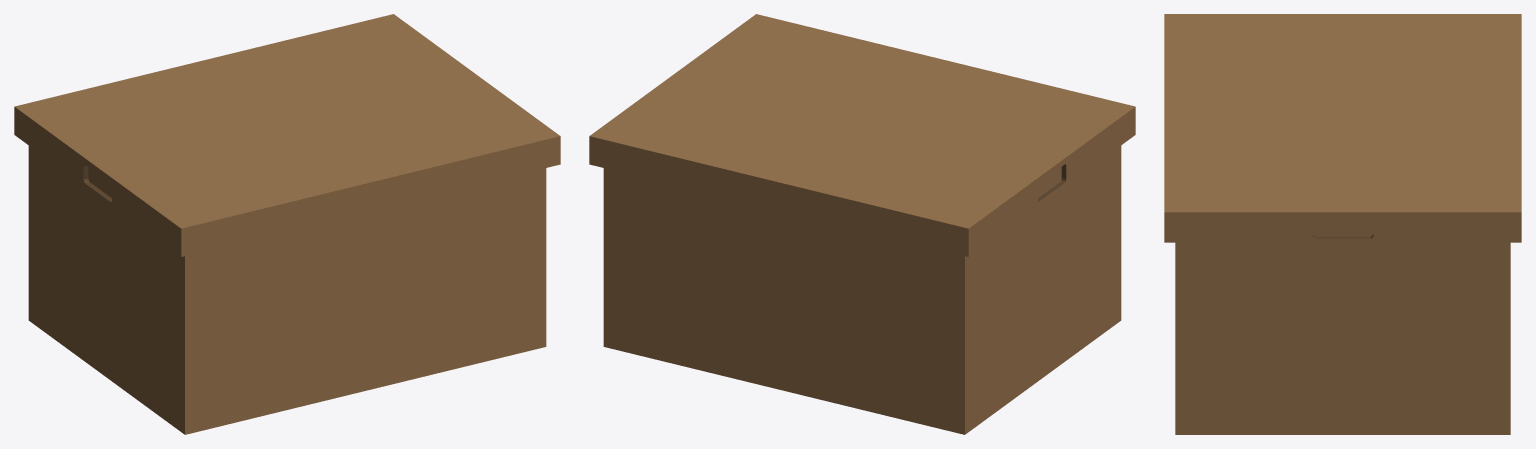
The model's file is Box_Brown.fbx.
3 renders of one model, left to right at view 1: azimuth 30°, elevation 25°; view 2: azimuth 150°, elevation 25°; view 3: azimuth 270°, elevation 25°, orthographic. The views are drawn at different scales.
Visible parts, largest first — view 1: Box.002; view 2: Box.002; view 3: Box.002.
Boxes of the visible parts, x1,y1,x2,y2 form: Box.002: [14, 14, 560, 434]; Box.002: [589, 14, 1135, 434]; Box.002: [1164, 14, 1521, 434].
Bounding box in the file's own units: 42 × 22.46 × 32.
